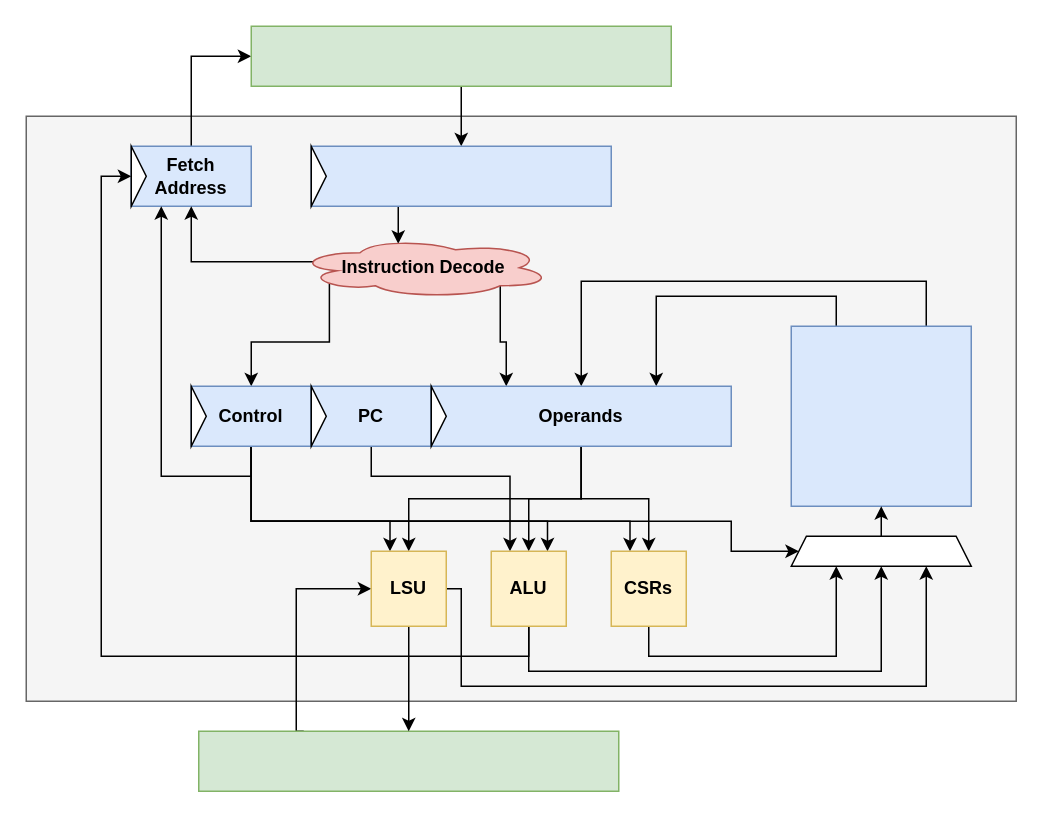
This 1043x818 diagram has some shape labels left out. The box of each missing label's shape, as (x1, y1, x2, y2) in pixels:
Data Memory: (197, 730, 619, 791)
Fetch Buffer: (310, 145, 611, 206)
GPRs: (790, 325, 971, 506)
Instruction Memory: (250, 25, 671, 86)
